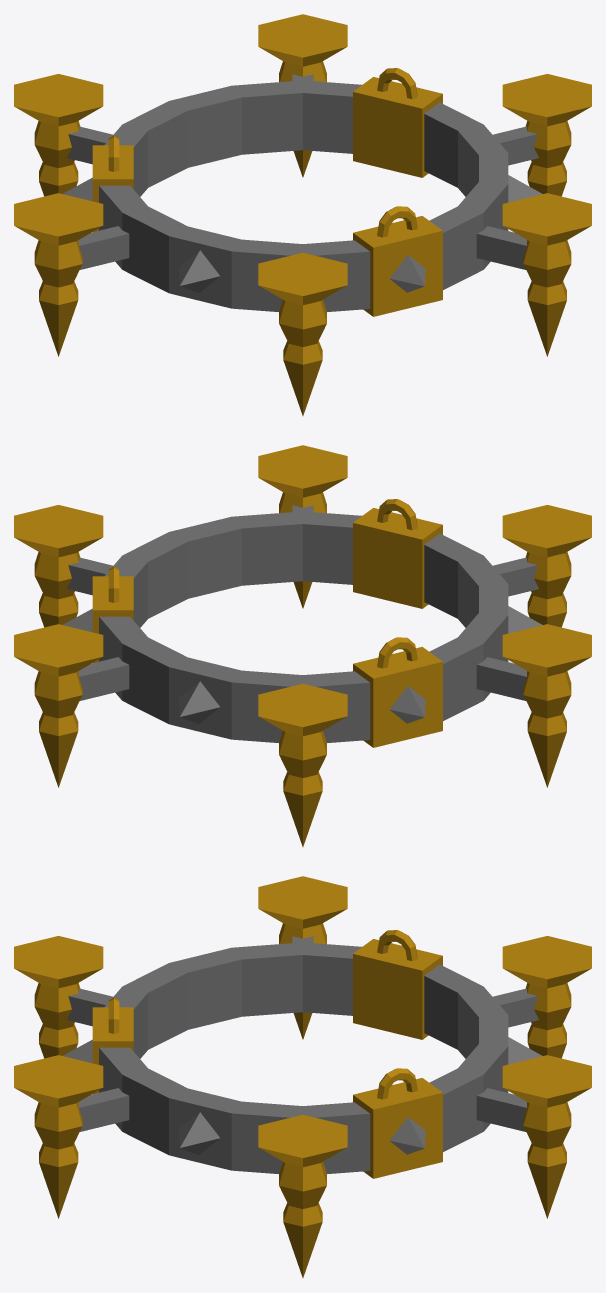
The model's file is Prop_Gothic_Hanging_Chandelier_Candelabra_01.FBX.
3 views of the same model, one above another, from view 1: azimuth 30°, elevation 25°; view 2: azimuth 150°, elevation 25°; view 3: azimuth 270°, elevation 25° (orthographic).
Visible parts, largest first — view 1: Prop_Gothic_Hanging_Chandelier_Candelabra_01; view 2: Prop_Gothic_Hanging_Chandelier_Candelabra_01; view 3: Prop_Gothic_Hanging_Chandelier_Candelabra_01.
Part boxes in pixels (x1=…): Prop_Gothic_Hanging_Chandelier_Candelabra_01: x1=14, y1=14, x2=591, y2=415; Prop_Gothic_Hanging_Chandelier_Candelabra_01: x1=14, y1=445, x2=591, y2=846; Prop_Gothic_Hanging_Chandelier_Candelabra_01: x1=14, y1=876, x2=591, y2=1277.
Bounding box in the file's own units: 1468 × 389 × 1271.
